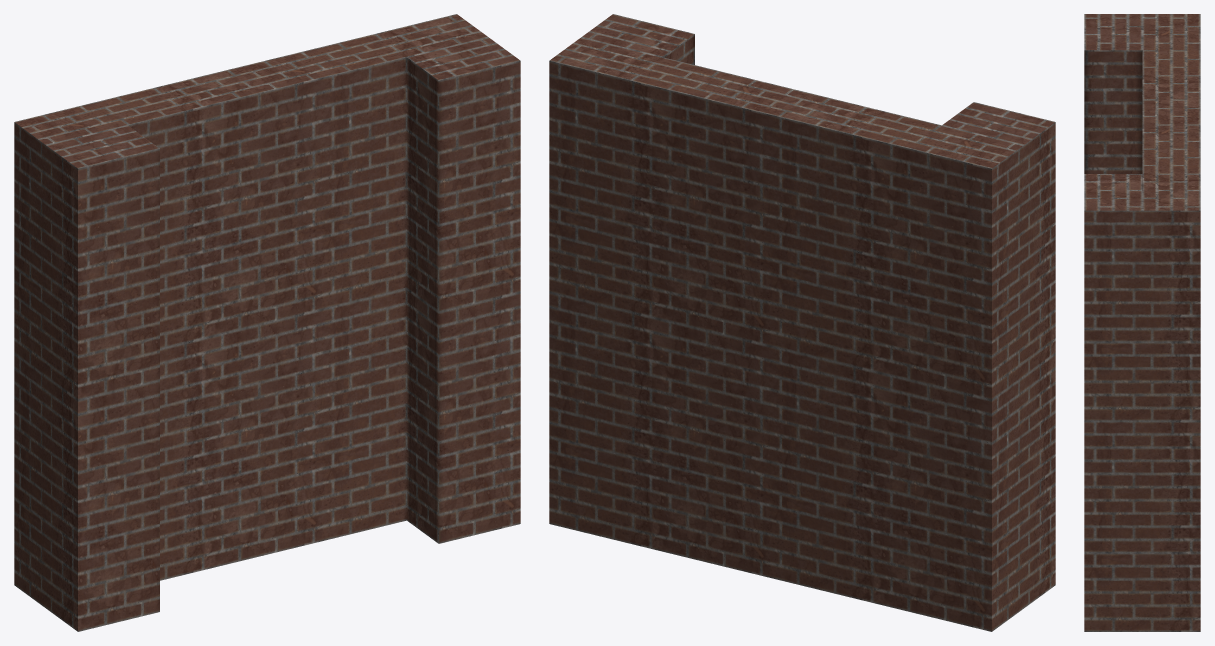
The model's file is SM_BrickWallBorder4m.FBX.
3 views of the same model, side by side, from view 1: azimuth 30°, elevation 25°; view 2: azimuth 150°, elevation 25°; view 3: azimuth 270°, elevation 25° (orthographic). The views are drawn at different scales.
Visible parts, largest first — view 1: SM_BrickWallBorder4m; view 2: SM_BrickWallBorder4m; view 3: SM_BrickWallBorder4m.
Part boxes in pixels (x1=…): SM_BrickWallBorder4m: x1=14, y1=14, x2=520, y2=631; SM_BrickWallBorder4m: x1=549, y1=14, x2=1055, y2=631; SM_BrickWallBorder4m: x1=1084, y1=14, x2=1200, y2=631.
Bounding box in the file's own units: 400 × 100 × 400.
